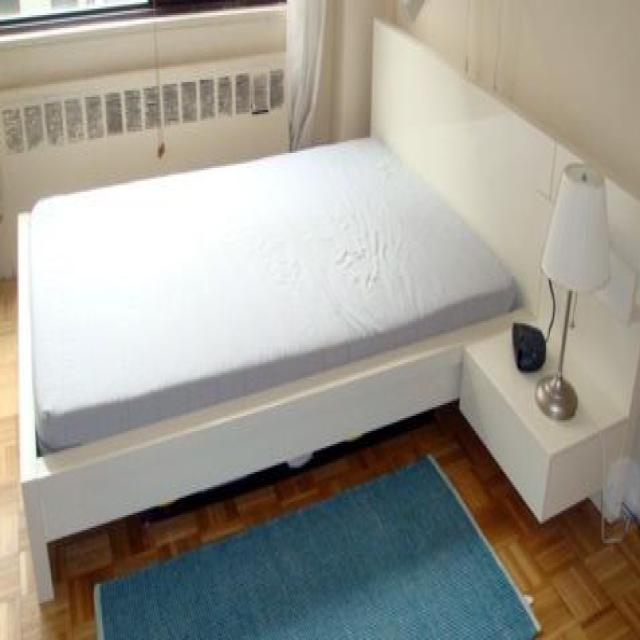bed: (19, 130, 534, 609)
